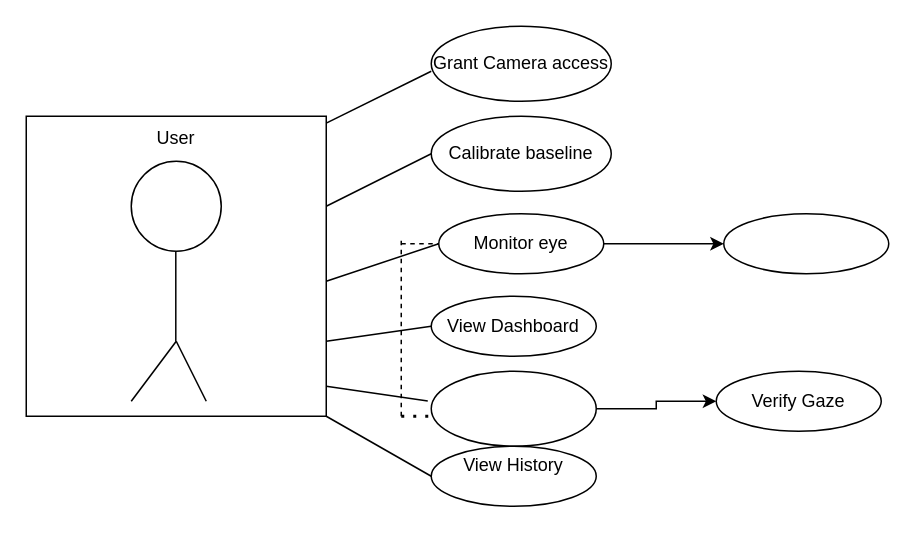
This 915x533 diagram has some shape labels left out. The box of each missing label's shape, as (x1, y1, x2, y2) in pixels:
Complete Eye Break: (430, 370, 596, 446)
Detect Blink: (722, 212, 889, 274)
